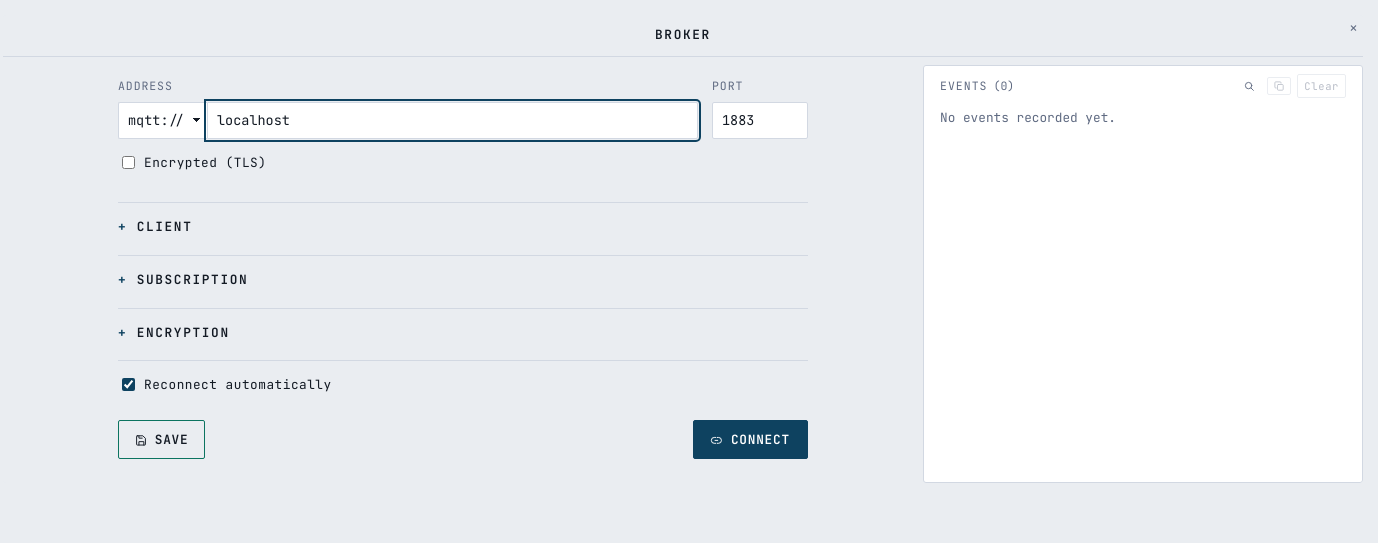
BrokerPanel › shows a validation error beside the field it belongs to
Click the button "Connect" at (751, 440), box top-left (693, 420), bottom-right (808, 459)
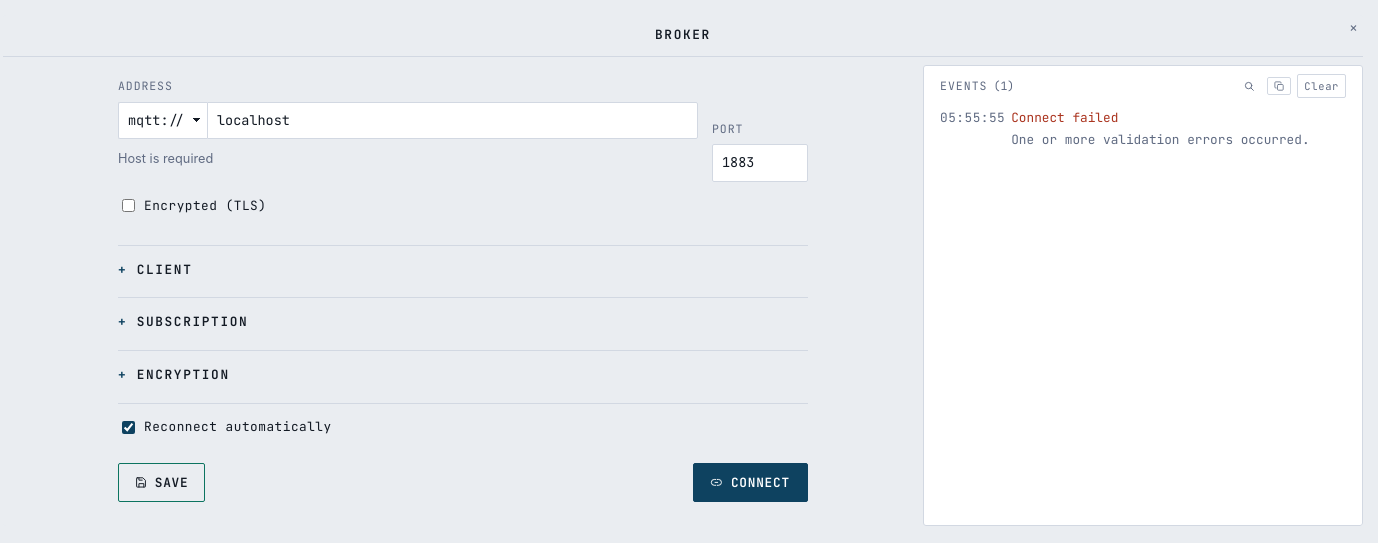
expect the text "Host is required" is shown: met, box top-left (118, 151), bottom-right (213, 166)
